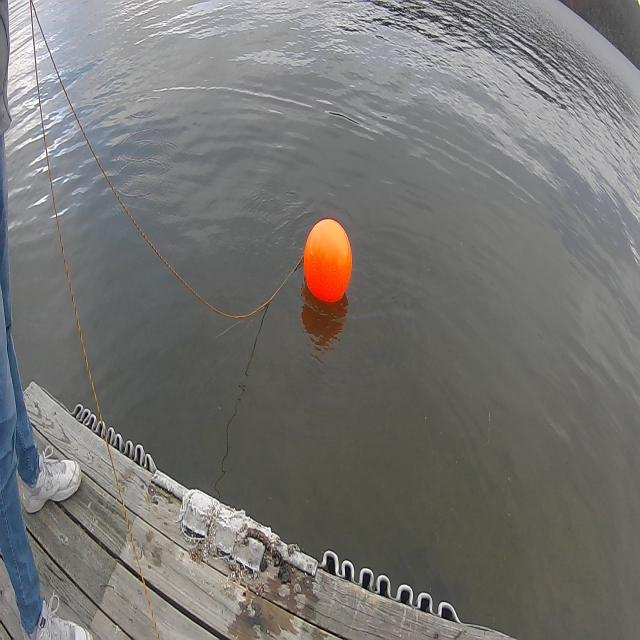Buoy: (297, 212, 359, 314)
